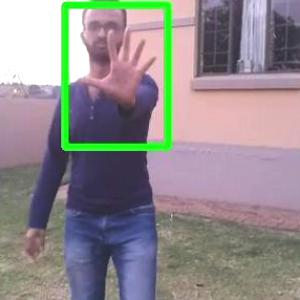follow_hand: (76, 19, 162, 113)
